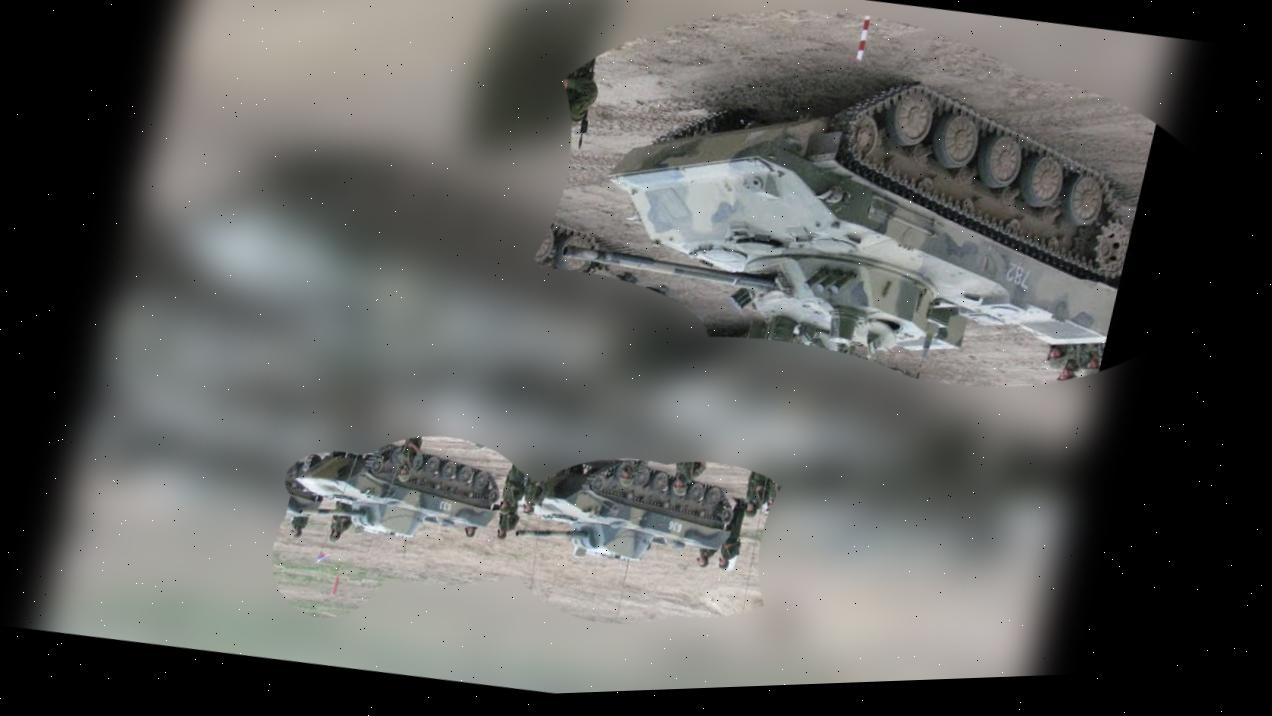tank: (533, 21, 1167, 419), (514, 435, 747, 585), (279, 418, 513, 564)
